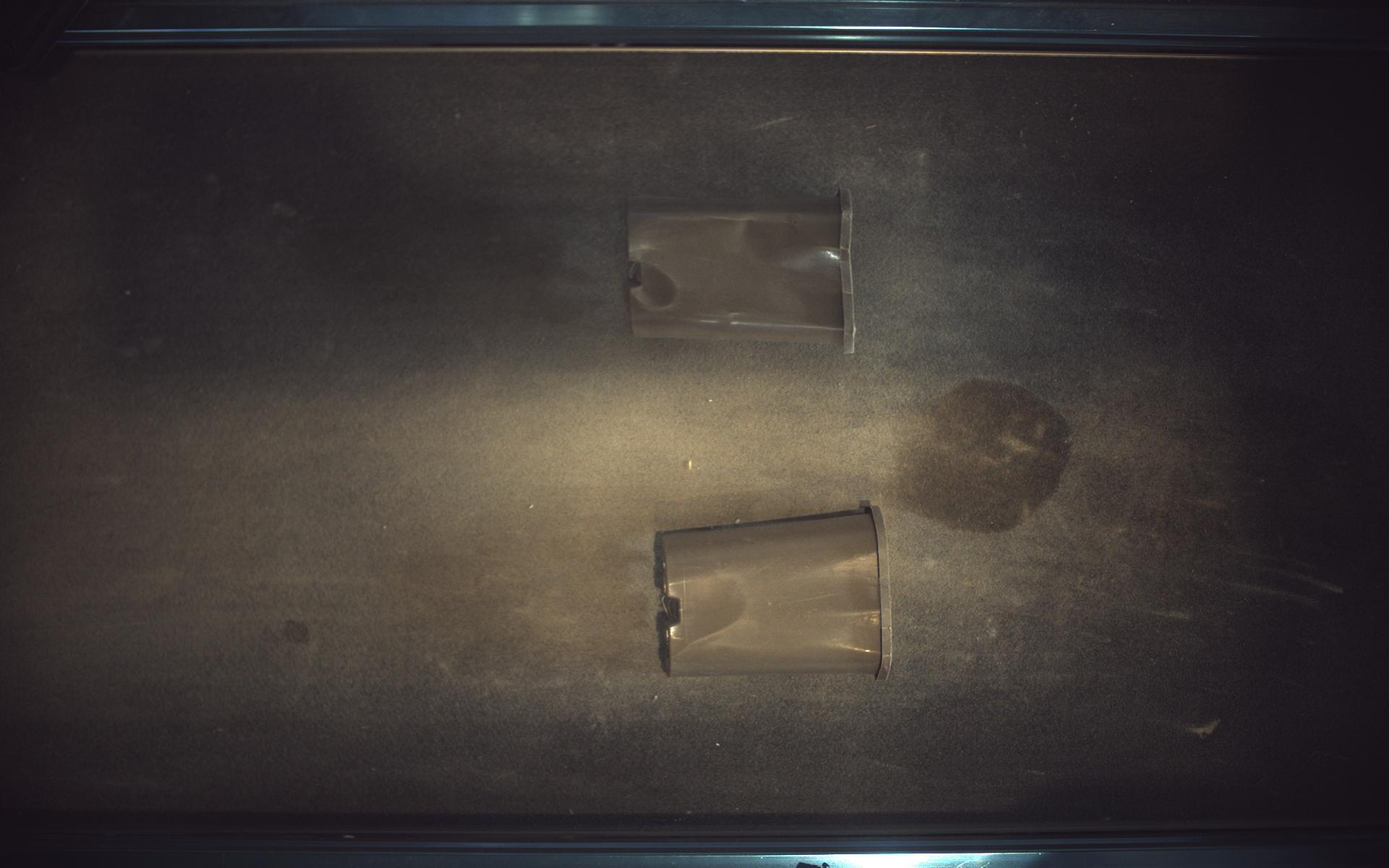general_w: (657, 502, 893, 681), (627, 187, 857, 354)
